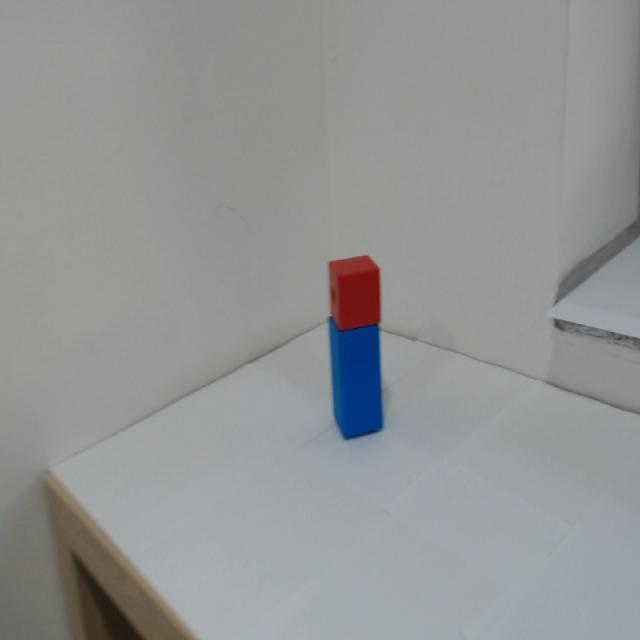cube: (323, 251, 394, 333)
